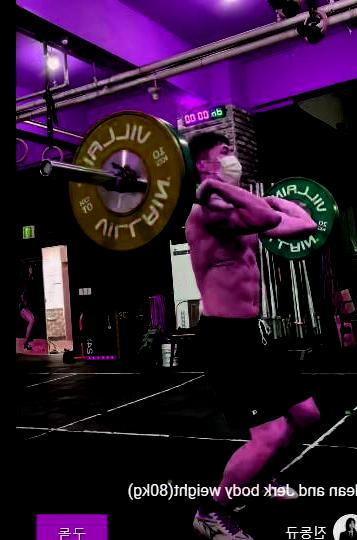Barbell: (35, 156, 52, 179)
